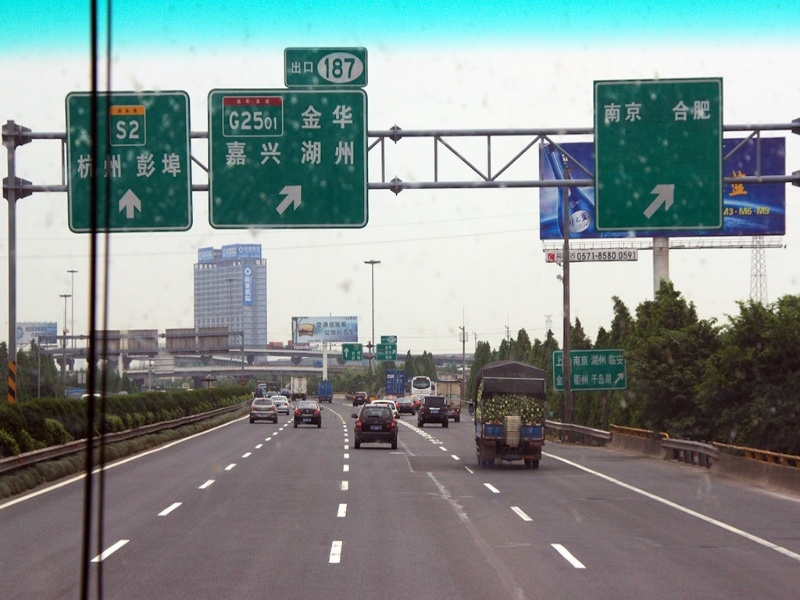right_direction: (640, 181, 678, 221), (272, 185, 305, 217)
straight_direction: (117, 188, 141, 219)
